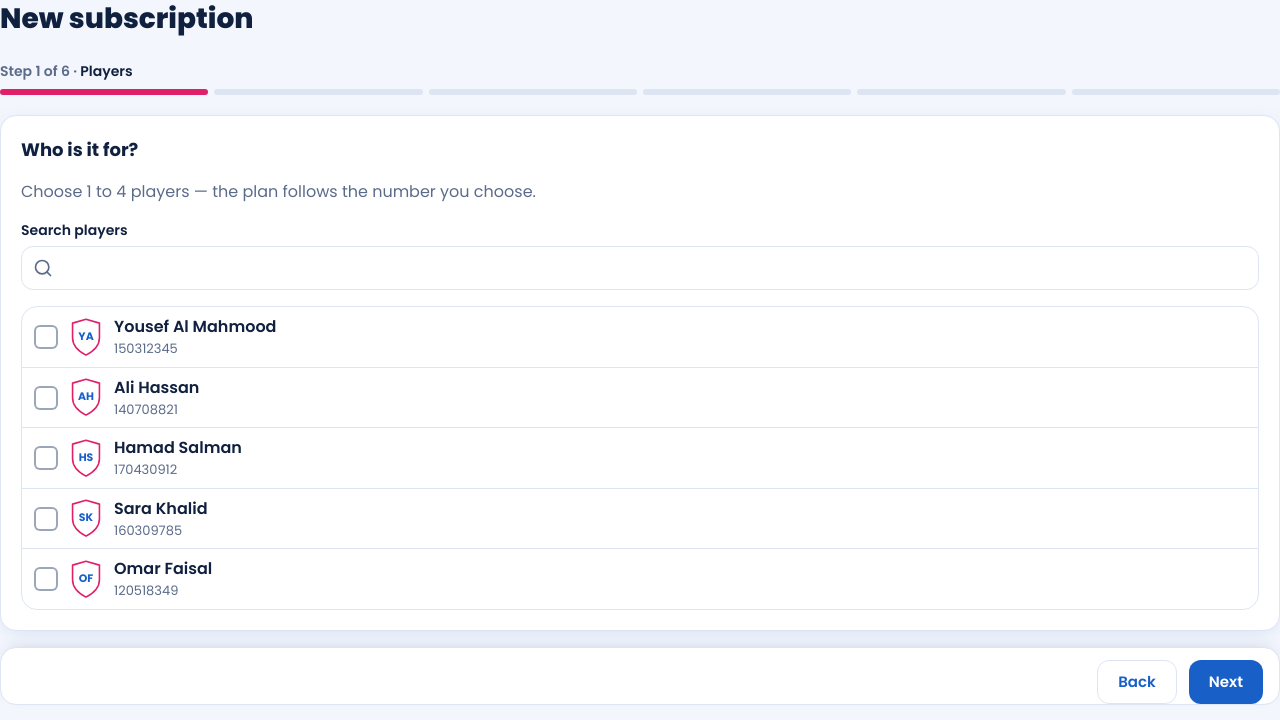
Test: NewSubscriptionPage › step 1 — players › waits for that lookup before showing fees
Click the checkbox named "Yousef Al Mahmood". click: (46, 337)
box: [24, 315, 68, 359]
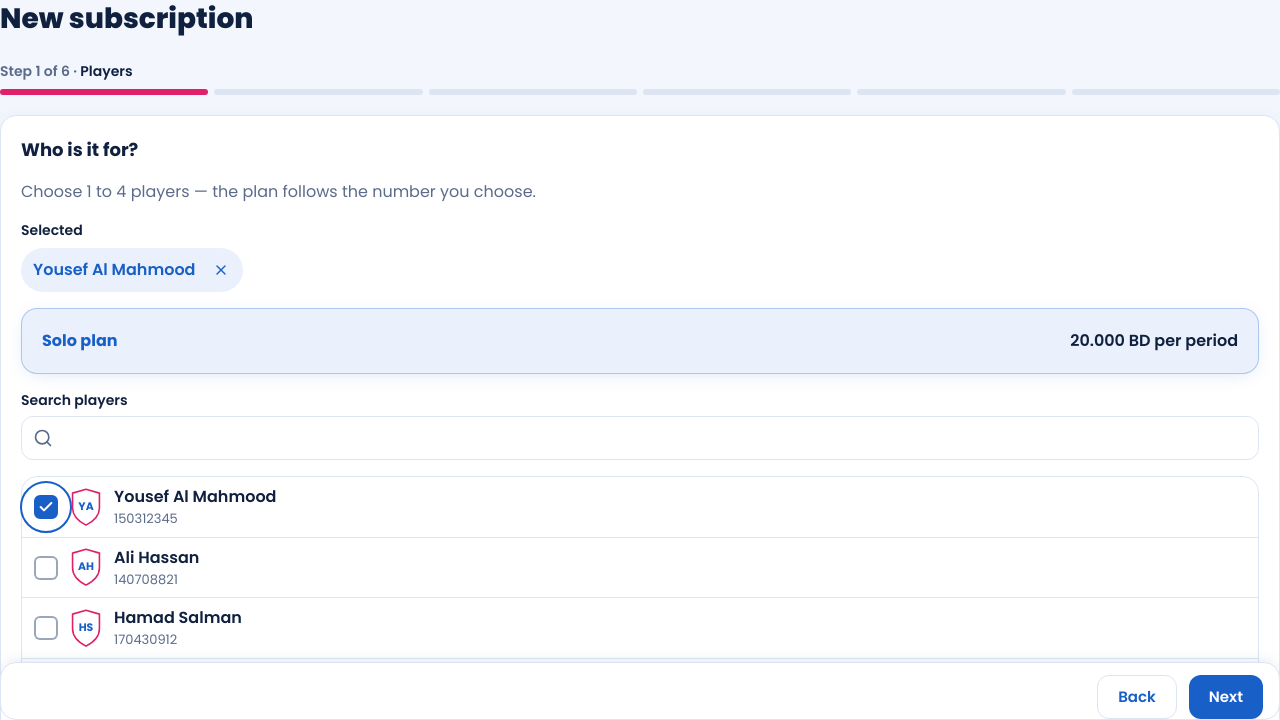
Click the button "Next". click: (1226, 697)
box: [1189, 675, 1263, 719]
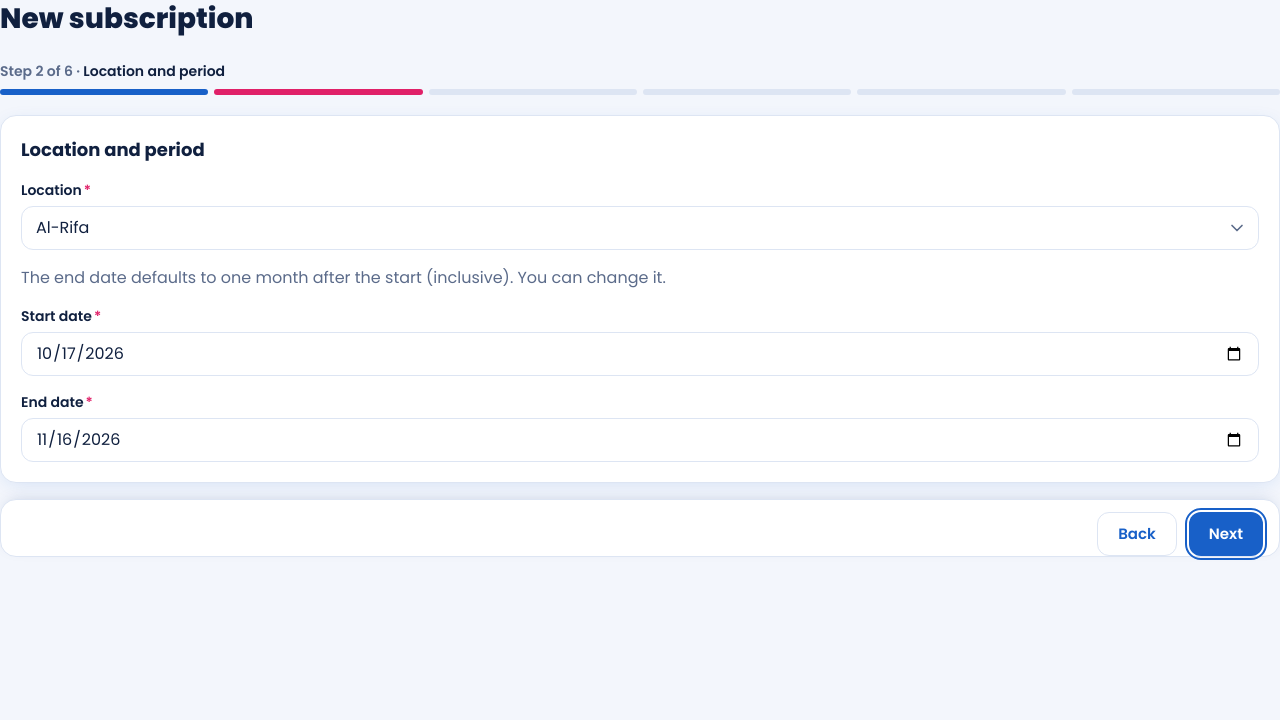
Click the button "Next". click: (1226, 534)
box: [1189, 512, 1263, 556]
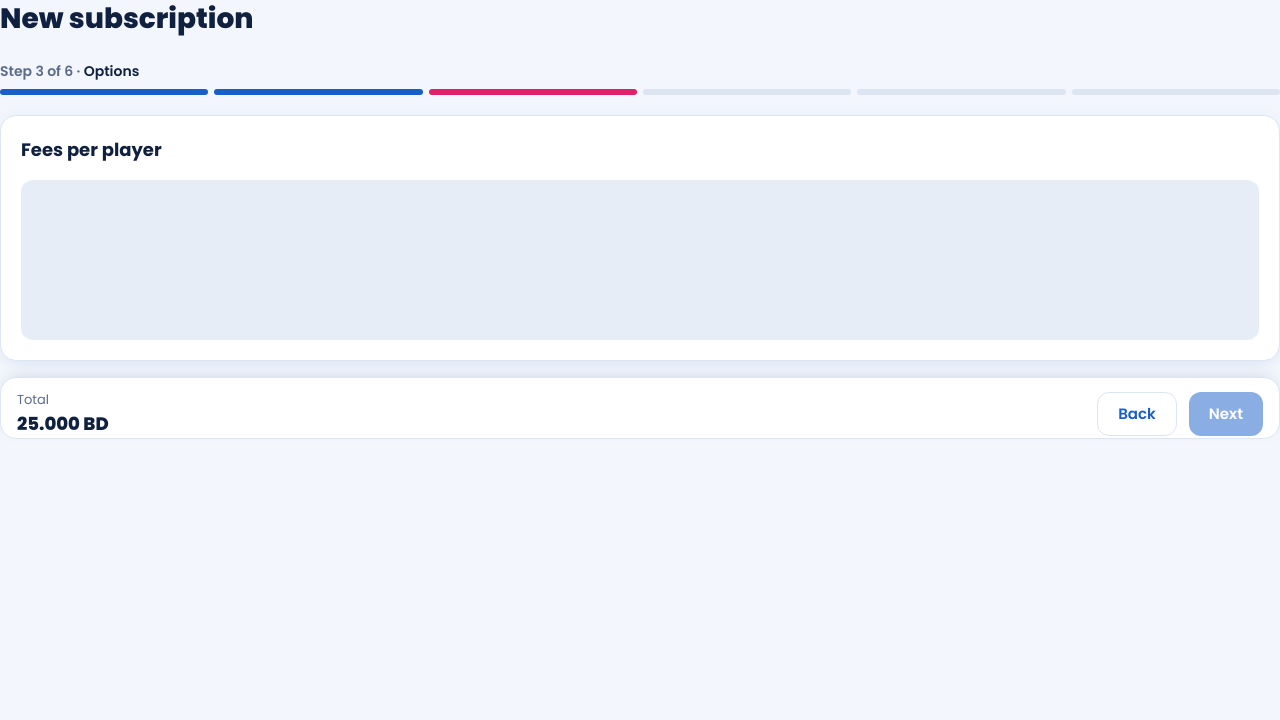
Result: the button "Next" is disabled at [1189, 392, 1263, 436]
